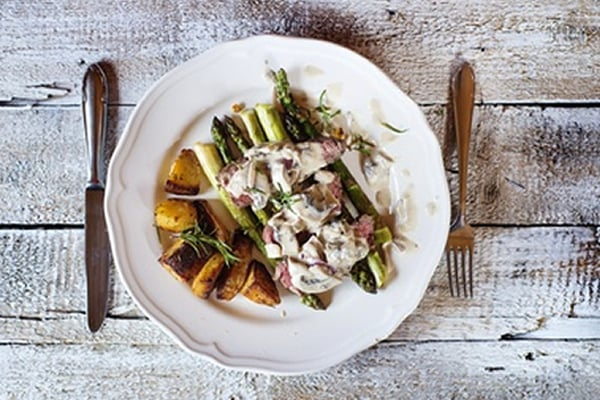burger: (445, 59, 476, 299)
sandwich: (82, 59, 118, 336), (446, 59, 477, 304)
